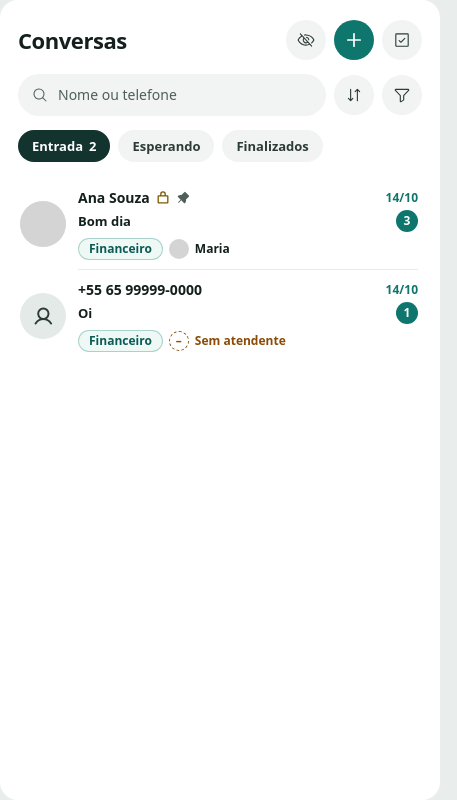
Test: keeps the chats that failed selected and says why (spec §4)
expect the text "Ana Souza" is shown: met, box x1=78 y1=188 x2=150 y2=208
Click the button named "Selecionar": (402, 40) x1=382 y1=20 x2=422 y2=60
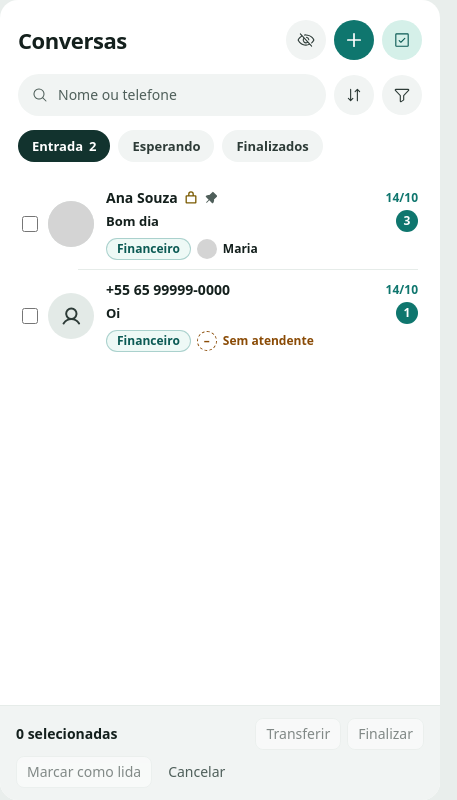
Click the checkbox named "Selecionar Ana Souza": (30, 224) x1=22 y1=216 x2=38 y2=232
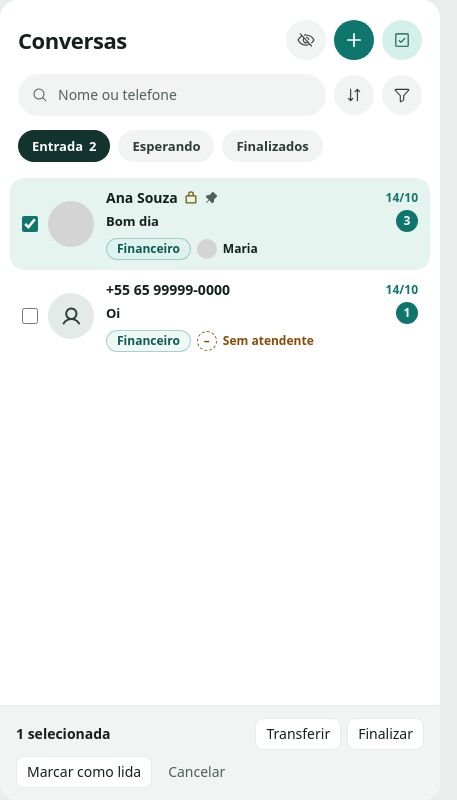
Click the checkbox named "Selecionar +55 65 99999-0000": (30, 316) x1=22 y1=308 x2=38 y2=324
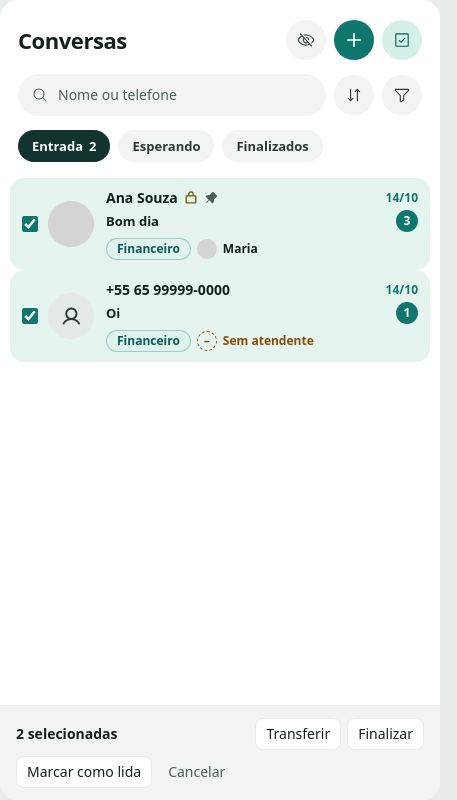
Click the button "Marcar como lida": (84, 772) x1=16 y1=756 x2=152 y2=788
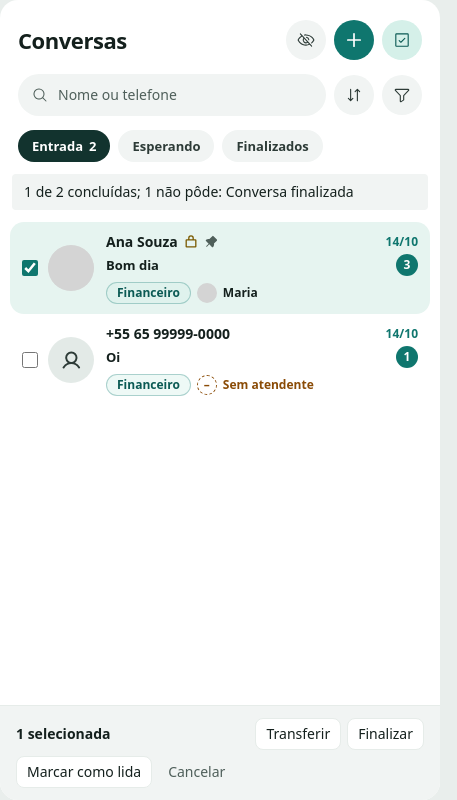
expect the checkbox named "Selecionar Ana Souza" is checked: met, box x1=22 y1=260 x2=38 y2=276
expect the message reads "1 de 2 concluídas; 1 não pôde: Conversa finalizada": met, box x1=24 y1=182 x2=354 y2=201
expect the text "1 selecionada" is shown: met, box x1=16 y1=724 x2=110 y2=744
